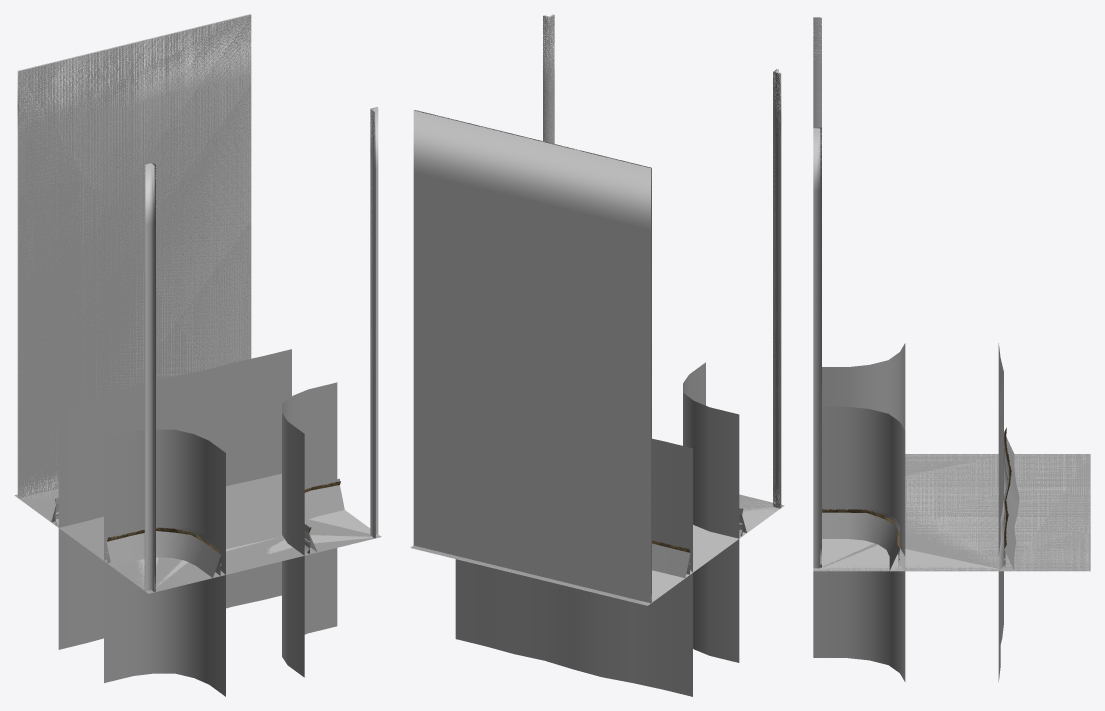
The model's file is forked1.fbx.
3 renders of one model, left to right at view 1: azimuth 30°, elevation 25°; view 2: azimuth 150°, elevation 25°; view 3: azimuth 270°, elevation 25°, orthographic. The views are drawn at different scales.
Parts seen in each view (by area): view 1: col_o, col_w, mdl_LOD0, mdl2_LOD0; view 2: mdl_LOD0, col_w, mdl2_LOD0, col_o; view 3: col_o, col_w, mdl_LOD0, mdl2_LOD0.
Part boxes in pixels (box(x1,y1,x2,y2)): col_o: box(15, 15, 381, 593); col_w: box(58, 349, 337, 696); mdl_LOD0: box(14, 76, 380, 592); mdl2_LOD0: box(17, 14, 378, 554); mdl_LOD0: box(412, 77, 783, 605); col_w: box(455, 362, 739, 696); mdl2_LOD0: box(413, 14, 781, 552); col_o: box(410, 15, 784, 605); col_o: box(813, 17, 1090, 571); col_w: box(813, 343, 1003, 681); mdl_LOD0: box(813, 94, 1090, 571); mdl2_LOD0: box(813, 17, 1011, 548).
Size of what is drawn, in the model's own units: 1600 by 3600 by 1600.
